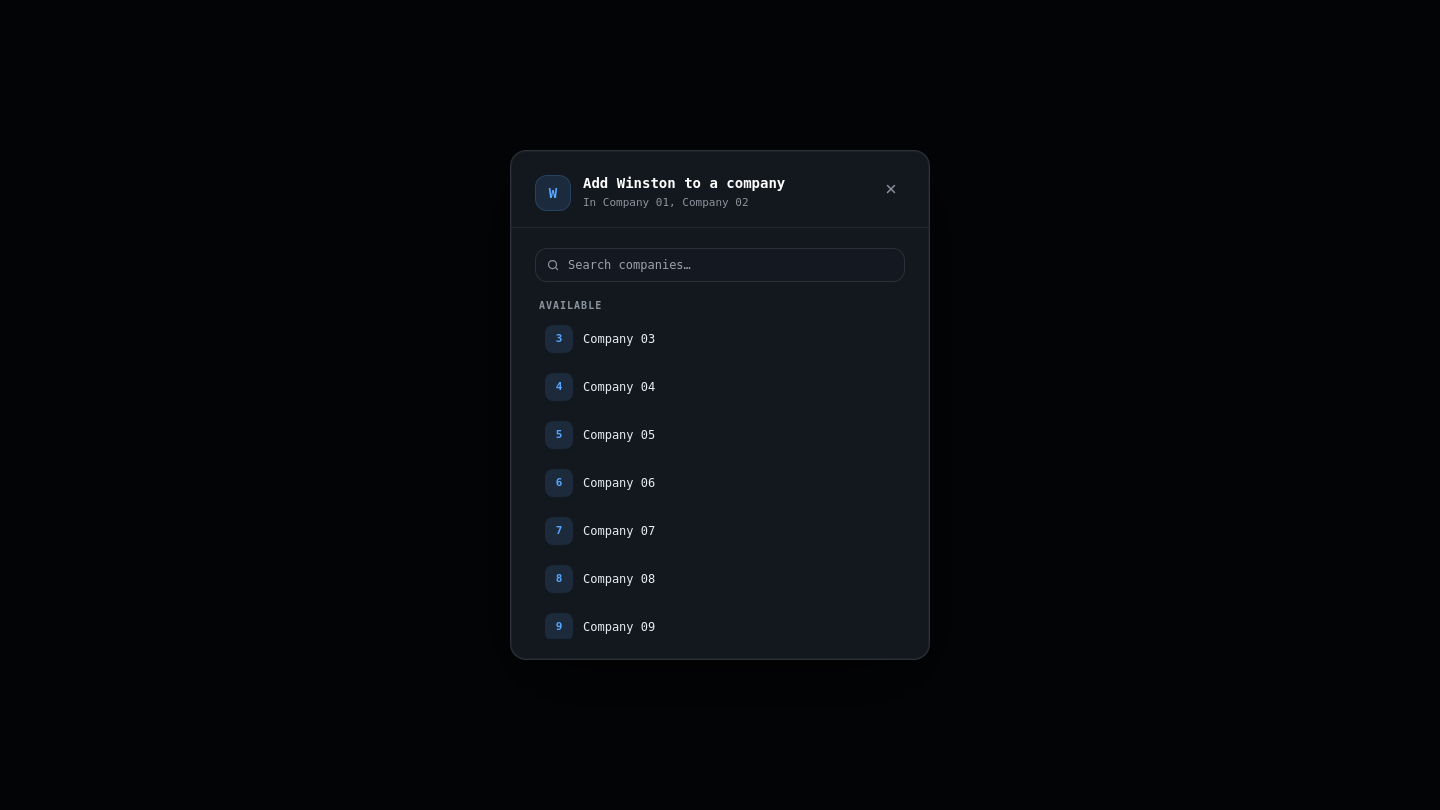
it: CompanySeatPicker › filters by keyboard and stays usable at 30 companies
The image size is (1440, 810).
Step 1. Type "12" into the field with test id "company-seat-search" → {"x": 720, "y": 265}, box [535,248,905,282]
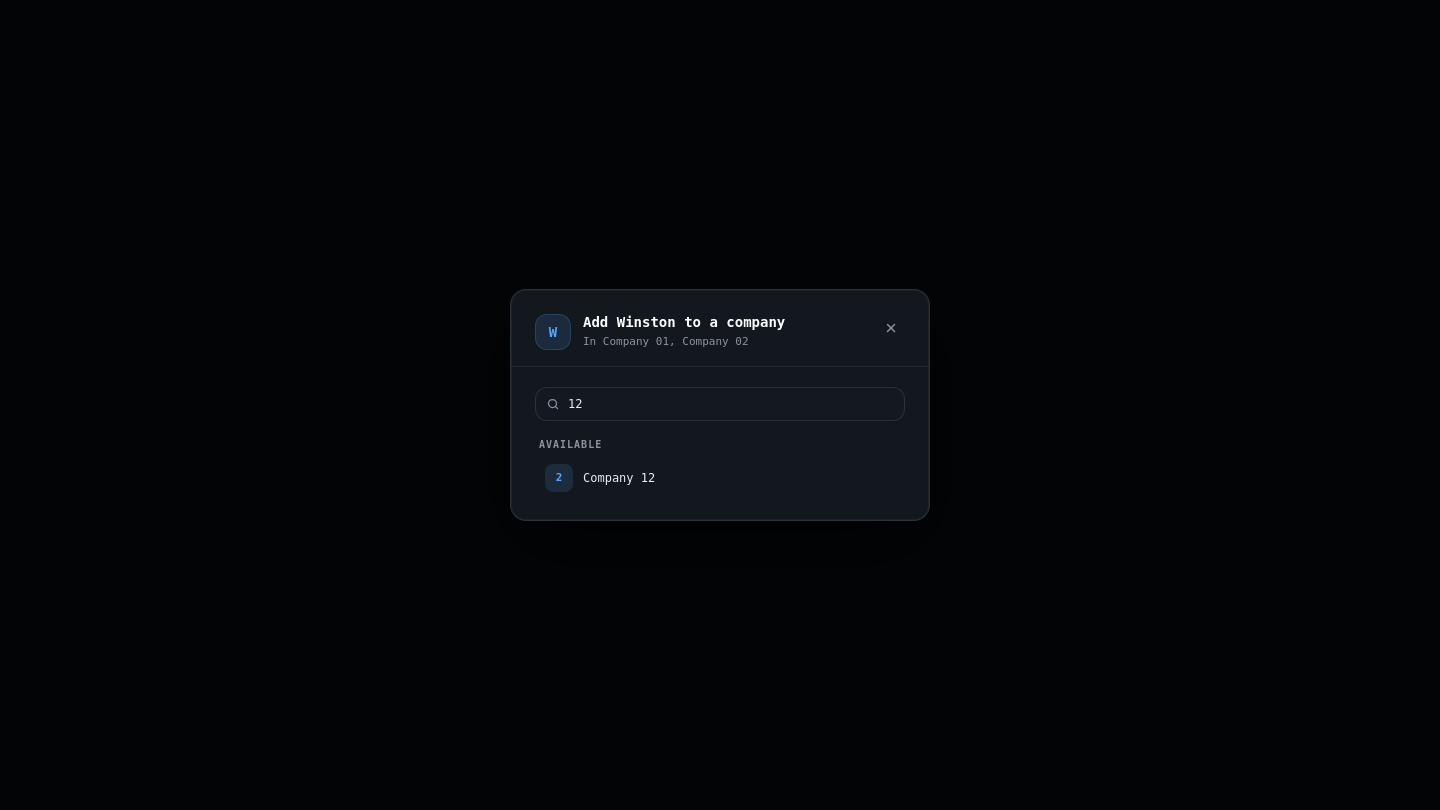
expect the button with test id "company-seat-join-c12" is shown: met, box [535,456,905,500]
